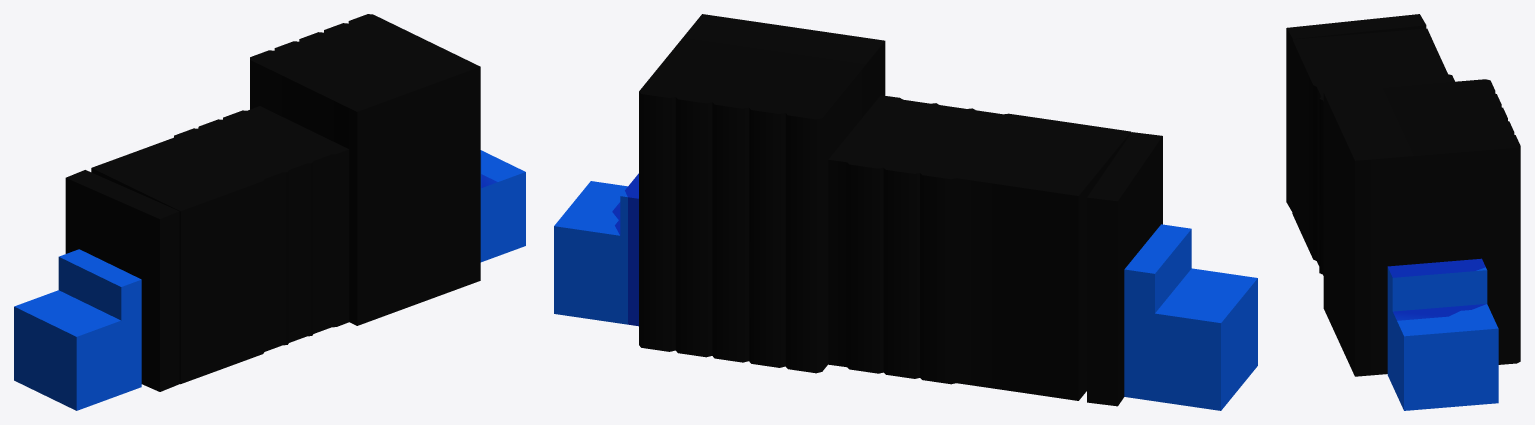
3 views of the same model, side by side, from view 1: azimuth 30°, elevation 25°; view 2: azimuth 150°, elevation 25°; view 3: azimuth 270°, elevation 25° (orthographic). The views are drawn at different scales.
Parts seen in each view (by area): view 1: Joint_0_Object_0, Joint_0_Object_2, Joint_0_Object_1; view 2: Joint_0_Object_0, Joint_0_Object_2, Joint_0_Object_1; view 3: Joint_0_Object_0, Joint_0_Object_1, Joint_0_Object_2.
Boxes of the visible parts, x1=… form: Joint_0_Object_0: x1=65, y1=14, x2=480, y2=391; Joint_0_Object_2: x1=91, y1=110, x2=336, y2=384; Joint_0_Object_1: x1=14, y1=150, x2=525, y2=410; Joint_0_Object_0: x1=639, y1=14, x2=1162, y2=406; Joint_0_Object_2: x1=828, y1=98, x2=1131, y2=400; Joint_0_Object_1: x1=554, y1=173, x2=1257, y2=410; Joint_0_Object_0: x1=1286, y1=14, x2=1520, y2=376; Joint_0_Object_1: x1=1387, y1=258, x2=1498, y2=410; Joint_0_Object_2: x1=1292, y1=28, x2=1454, y2=275.
Size of the model in its own units: 1326 by 520 by 511.
Materials: 3 (2 with a texture image).
